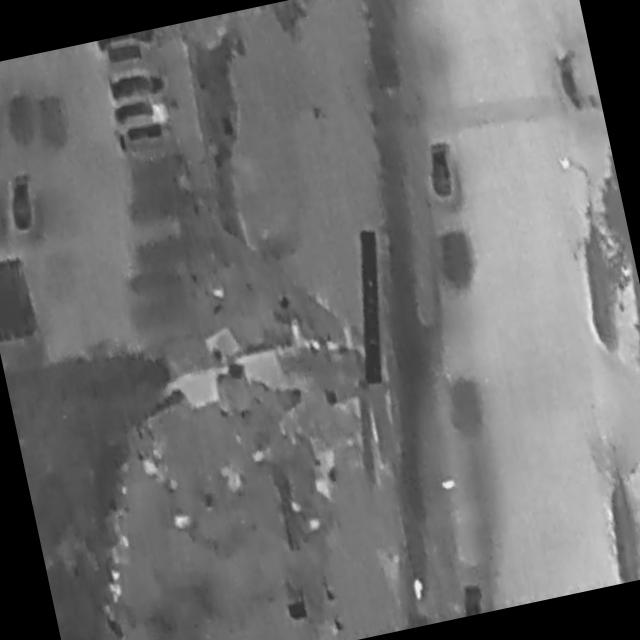person: (411, 577, 426, 601)
